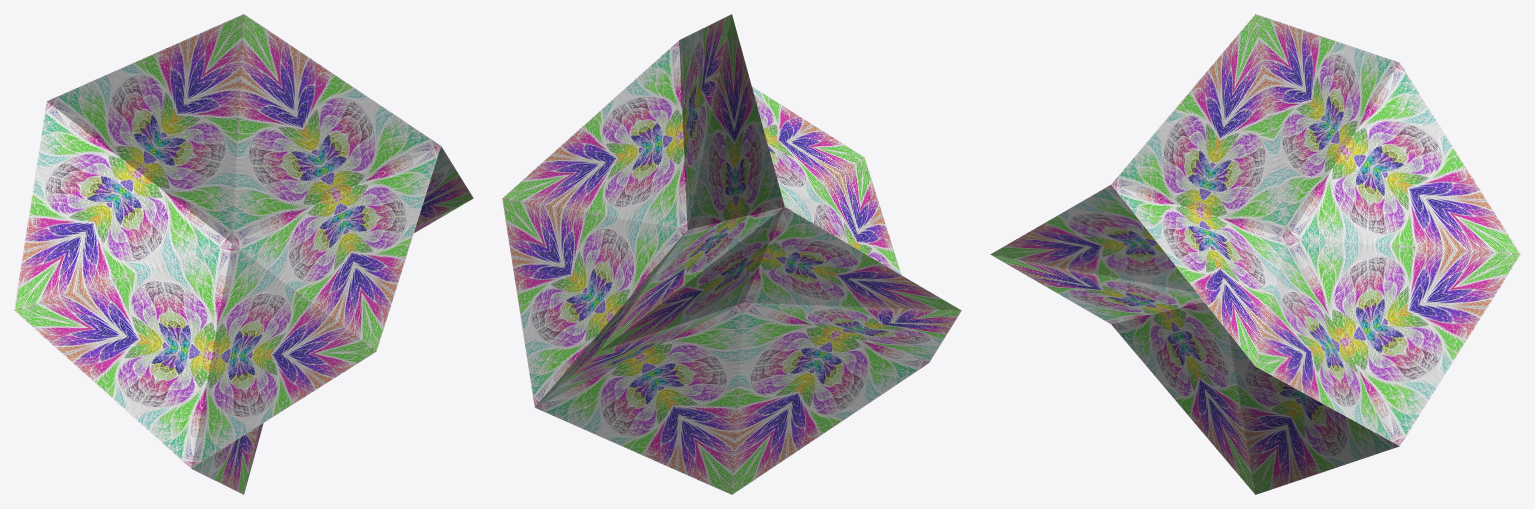
Rendered from Mobius24_10.obj.
3 views of the same model, side by side, from view 1: azimuth 30°, elevation 25°; view 2: azimuth 150°, elevation 25°; view 3: azimuth 270°, elevation 25° (orthographic).
Size of the model in its own units: 2.24 by 2.24 by 2.24.
Materials: 1 (1 with a texture image).
